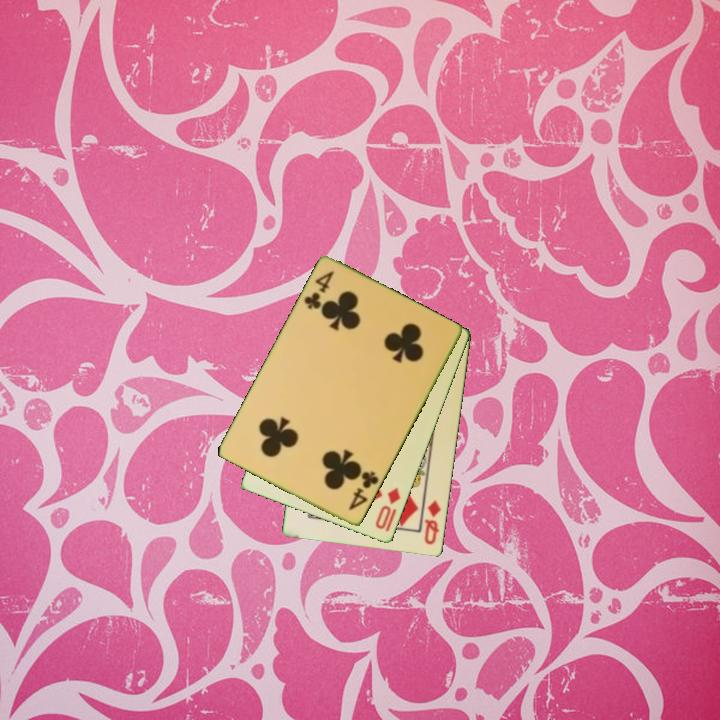10d: (372, 484, 404, 535)
4c: (345, 468, 382, 514), (300, 268, 337, 313)
Qd: (421, 496, 444, 548)
